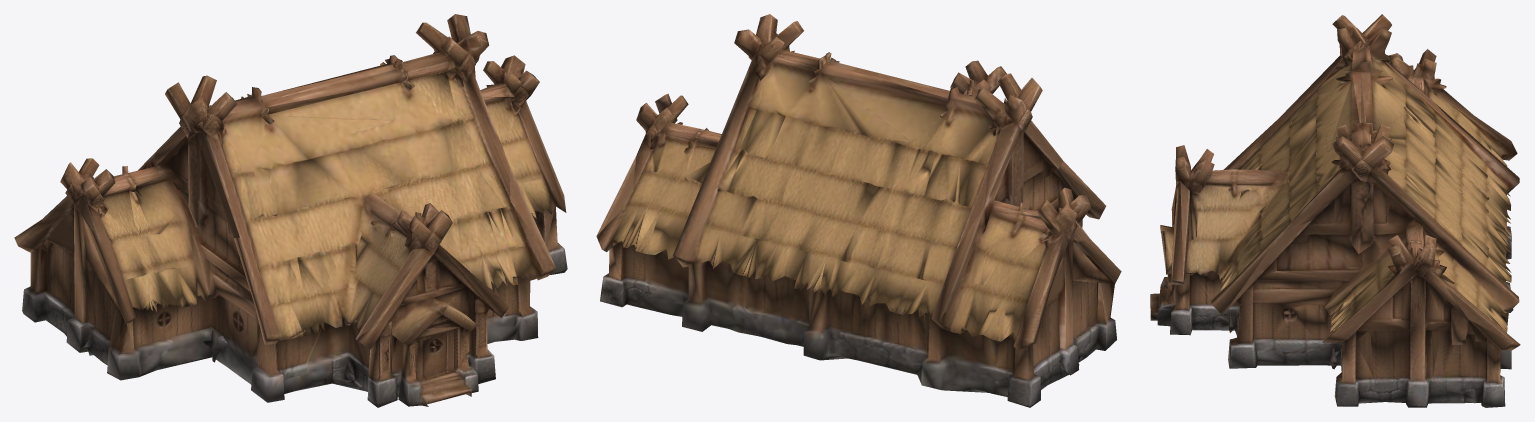
File: house-greathouse.glb
The picture shows the model from 3 angles, left to right: view 1: azimuth 30°, elevation 25°; view 2: azimuth 150°, elevation 25°; view 3: azimuth 270°, elevation 25°; orthographic projection. The views are drawn at different scales.
Parts seen in each view (by area): view 1: Mesh_0; view 2: Mesh_0; view 3: Mesh_0.
Part boxes in pixels (x1,y1,x2,y2): Mesh_0: (14,14,567,407); Mesh_0: (596,14,1121,407); Mesh_0: (1150,14,1520,407).
Bounding box in the file's own units: 11.11 × 6 × 8.6.
Materials: 1 (1 with a texture image).
